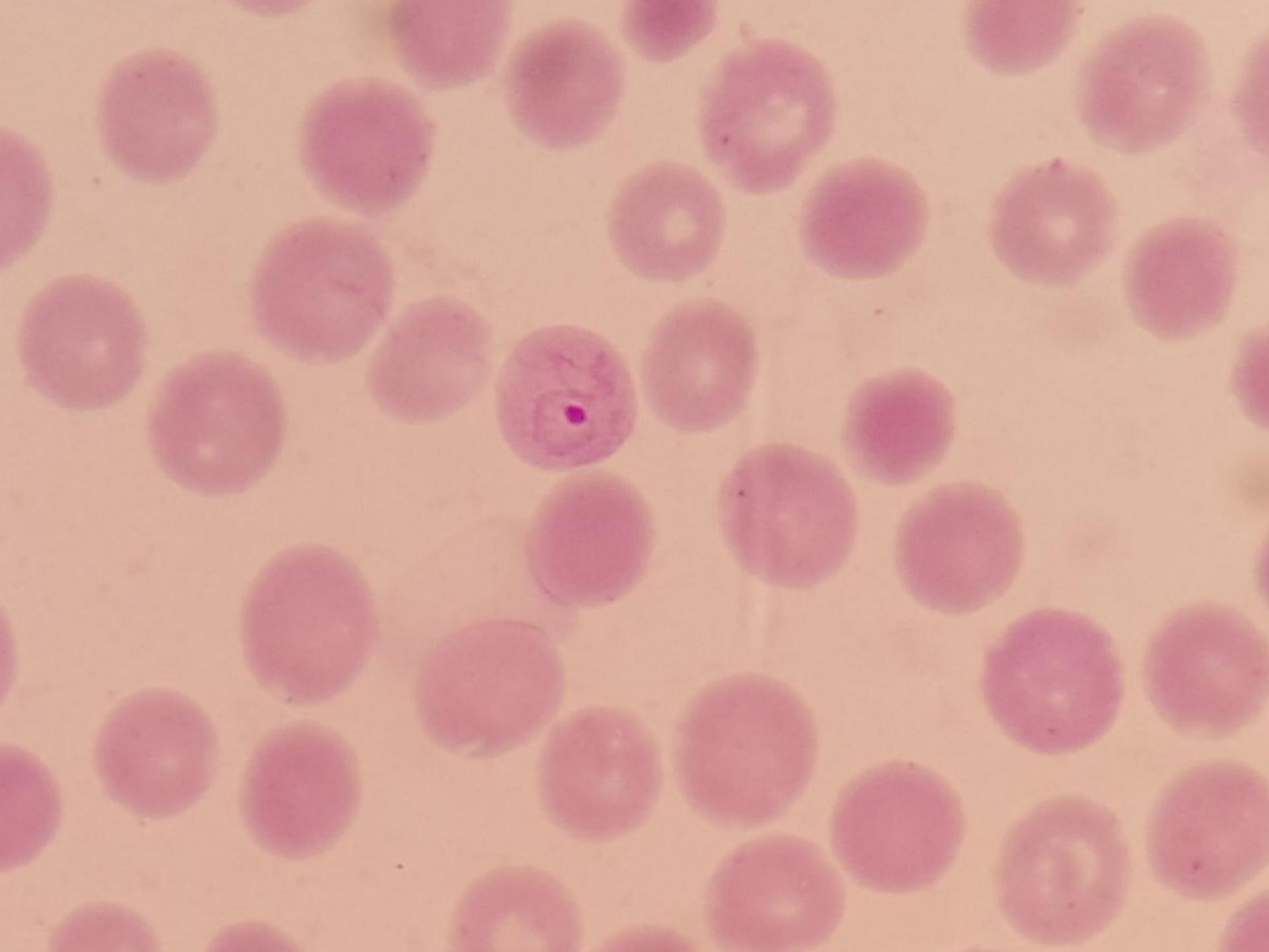Infected: (489, 322, 637, 468)
Uninfected: (241, 546, 379, 702), (677, 675, 818, 822), (415, 620, 562, 756), (983, 611, 1121, 754), (719, 446, 858, 587), (254, 223, 394, 361), (702, 42, 835, 185), (148, 356, 282, 494), (995, 801, 1124, 942), (830, 763, 962, 892), (301, 83, 430, 211), (527, 475, 653, 606), (703, 838, 843, 952), (1149, 762, 1268, 896), (20, 277, 143, 406), (242, 726, 362, 858), (96, 690, 216, 821), (1082, 20, 1204, 148), (1145, 605, 1267, 733), (538, 707, 657, 838), (897, 484, 1020, 610), (509, 18, 625, 147), (100, 52, 217, 179), (993, 161, 1114, 282), (802, 162, 927, 279), (371, 302, 492, 420), (643, 304, 750, 426), (608, 165, 722, 279), (1127, 219, 1235, 333), (846, 371, 956, 478), (390, 0, 508, 92), (451, 867, 575, 952), (970, 3, 1078, 69), (2, 749, 61, 867)
